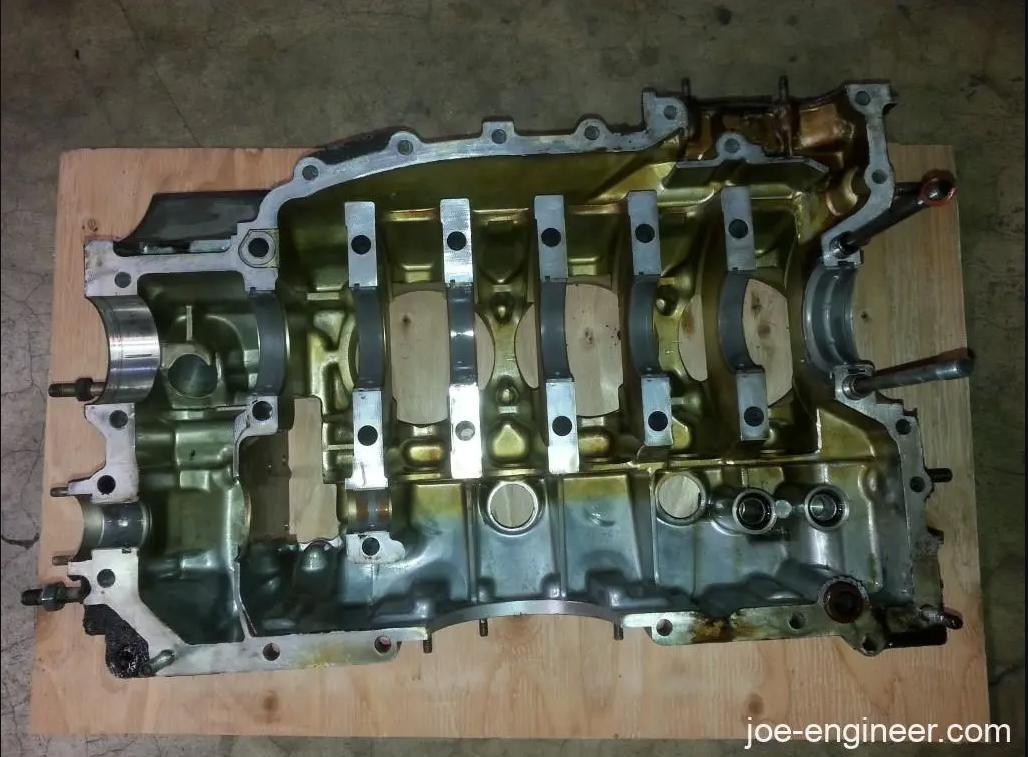hole: (891, 413, 915, 436), (656, 618, 678, 642), (260, 642, 283, 664), (375, 634, 393, 659), (787, 611, 806, 632), (300, 164, 320, 183), (491, 127, 510, 147), (854, 89, 874, 108), (909, 474, 926, 496), (396, 138, 414, 156), (584, 124, 601, 143), (872, 167, 888, 187)
